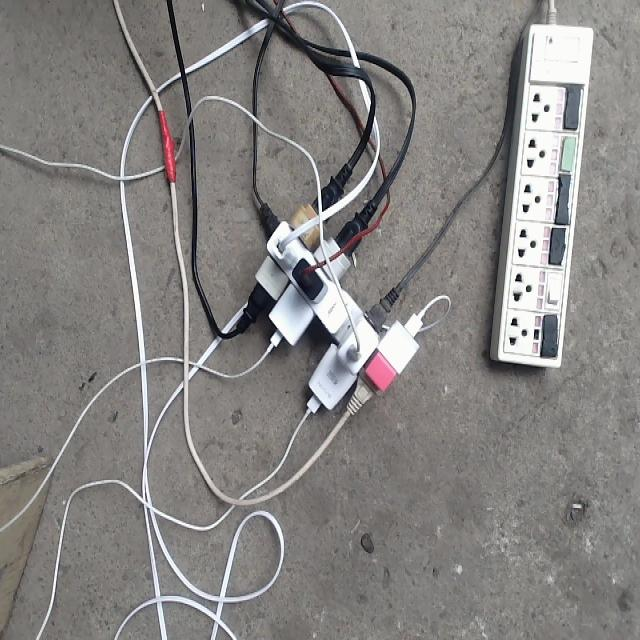-: (197, 112, 457, 501)
